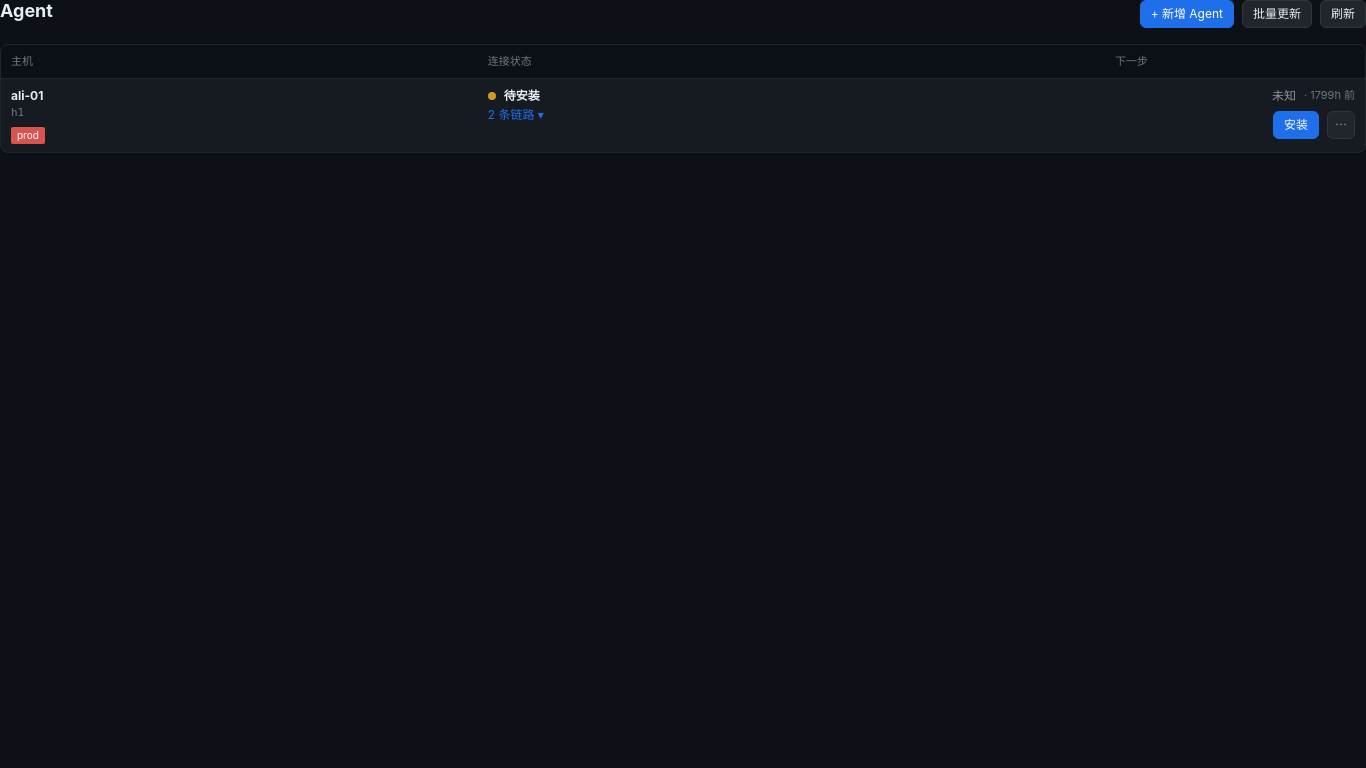
Scenario: AgentManagerTab › opens the unified panel on the install tab from the primary pending-install action
This screenshot has width=1366, height=768.
Click the button with test id "agent-primary-h1": (1296, 124) left=1273, top=110, right=1319, bottom=138
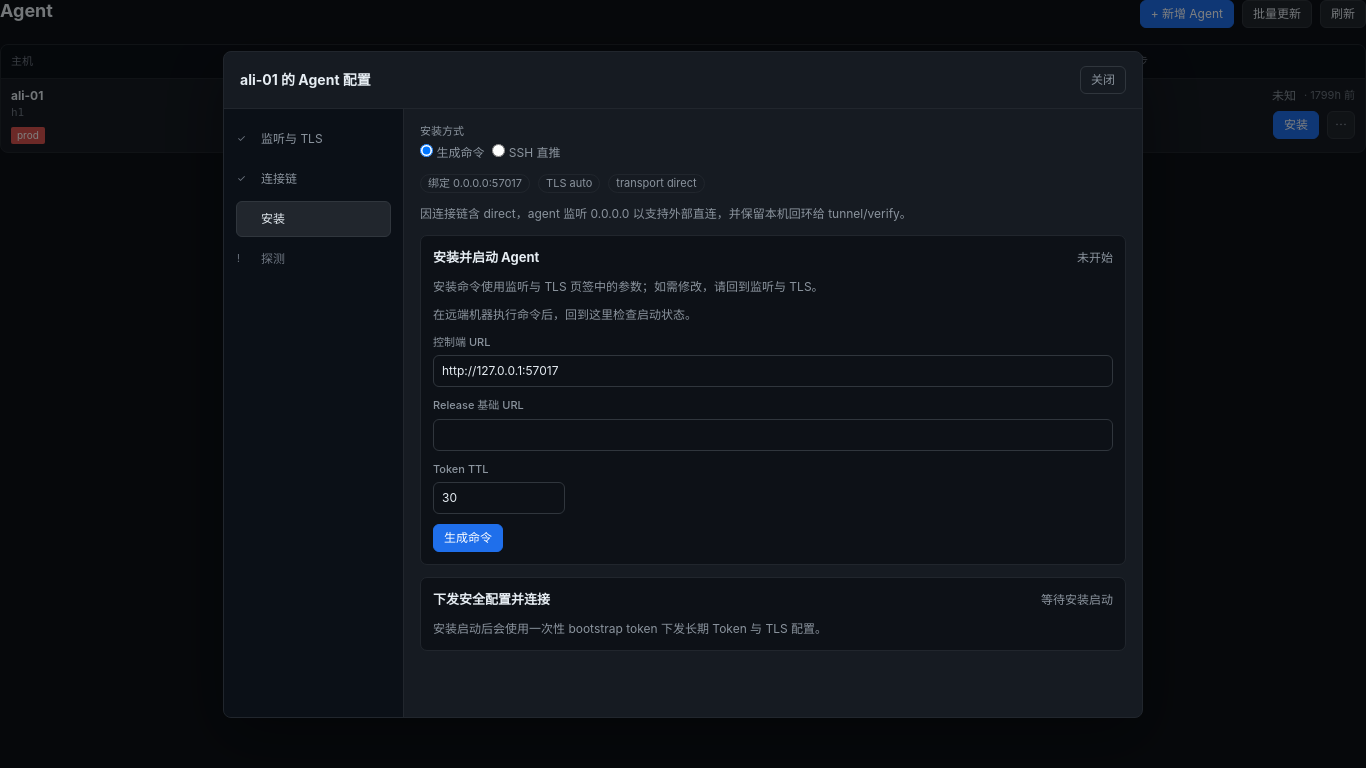
Expected: the element with test id "agent-panel" is shown, left=223, top=50, right=1143, bottom=718
